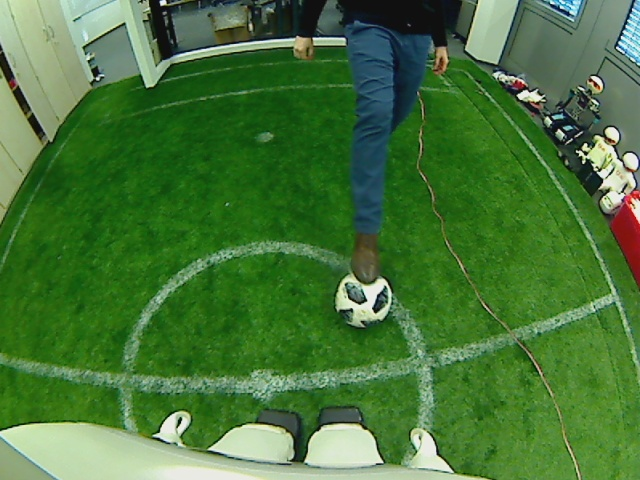ball: (334, 273, 395, 326)
